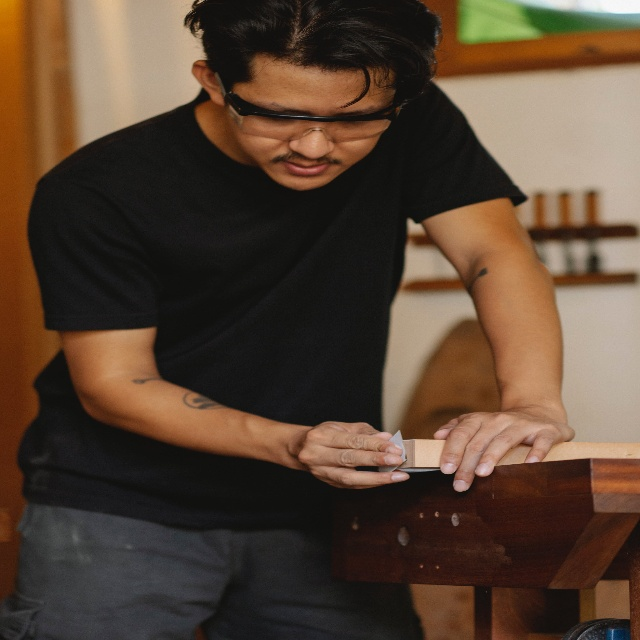Gafas: (211, 67, 405, 141)
Sin_guantes: (433, 401, 575, 494), (292, 420, 410, 491)
